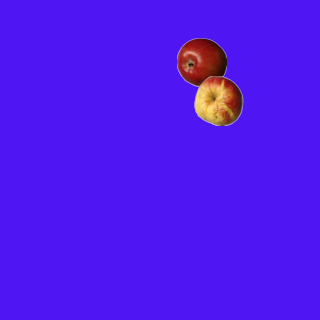Apple Braeburn: (176, 37, 226, 87)
Apple Red Yellow 1: (193, 75, 243, 125)
